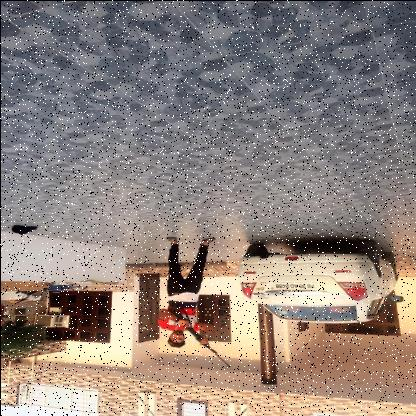rifle: (166, 303, 232, 368)
